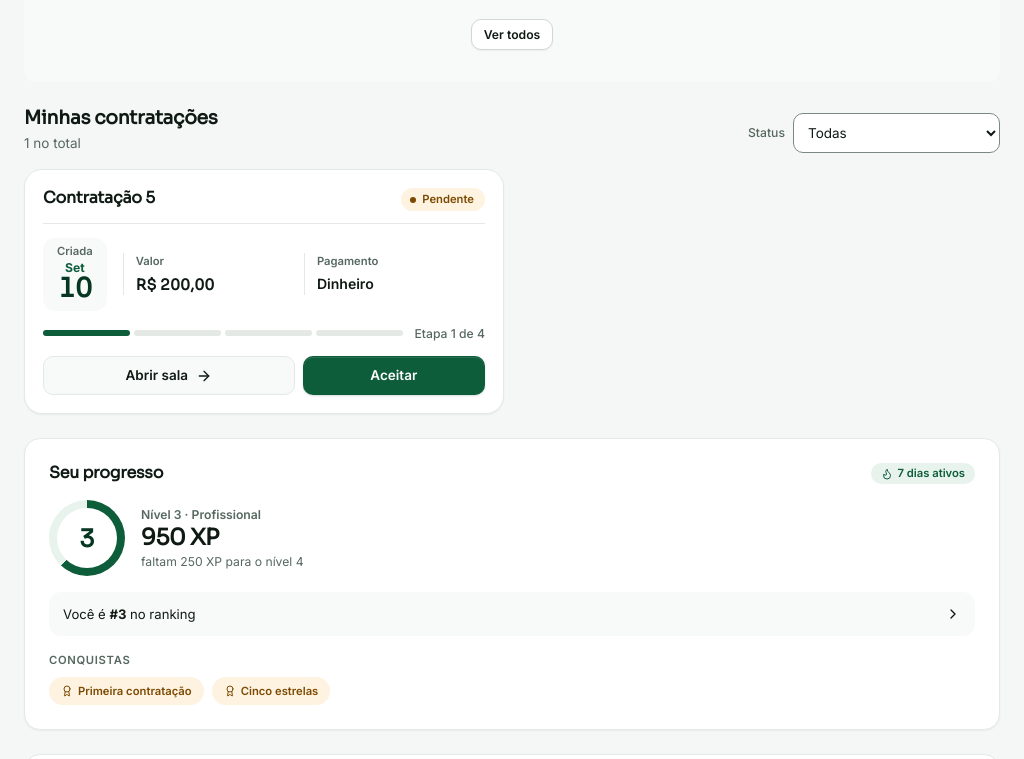
InicioView › se a API recusa o aceite, a mensagem dela aparece
(page scrolled)
Click the button "Aceitar" at (394, 376), box [302,356,485,395]
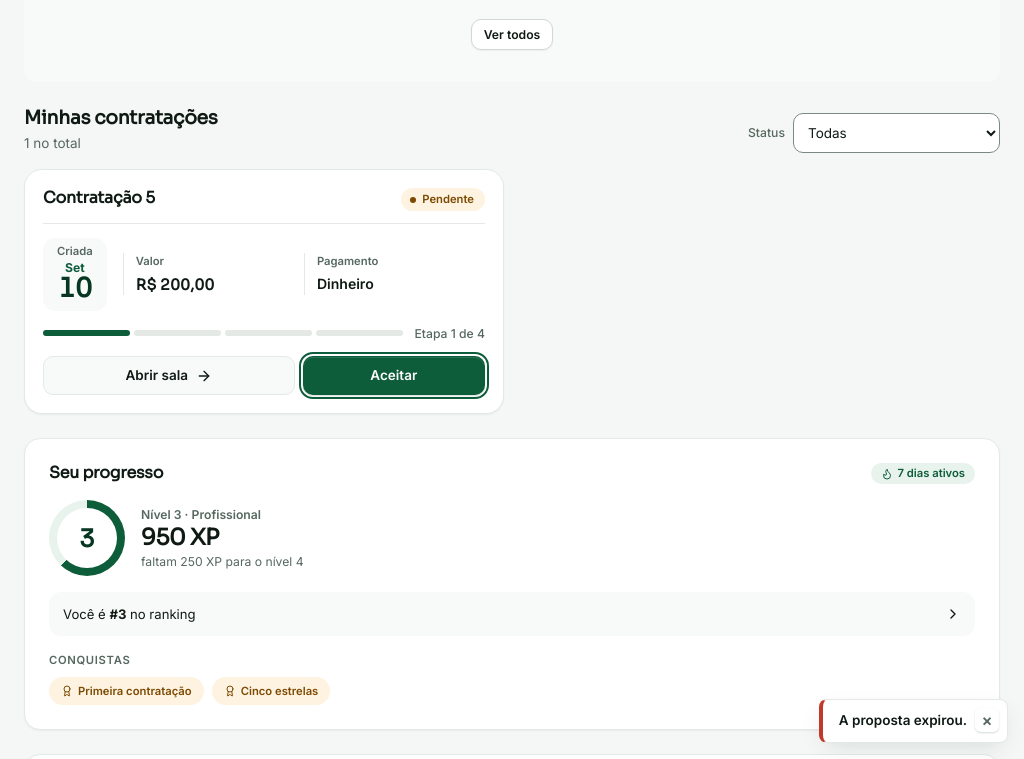
Now the text "A proposta expirou." is shown, box [839,711,967,731]
